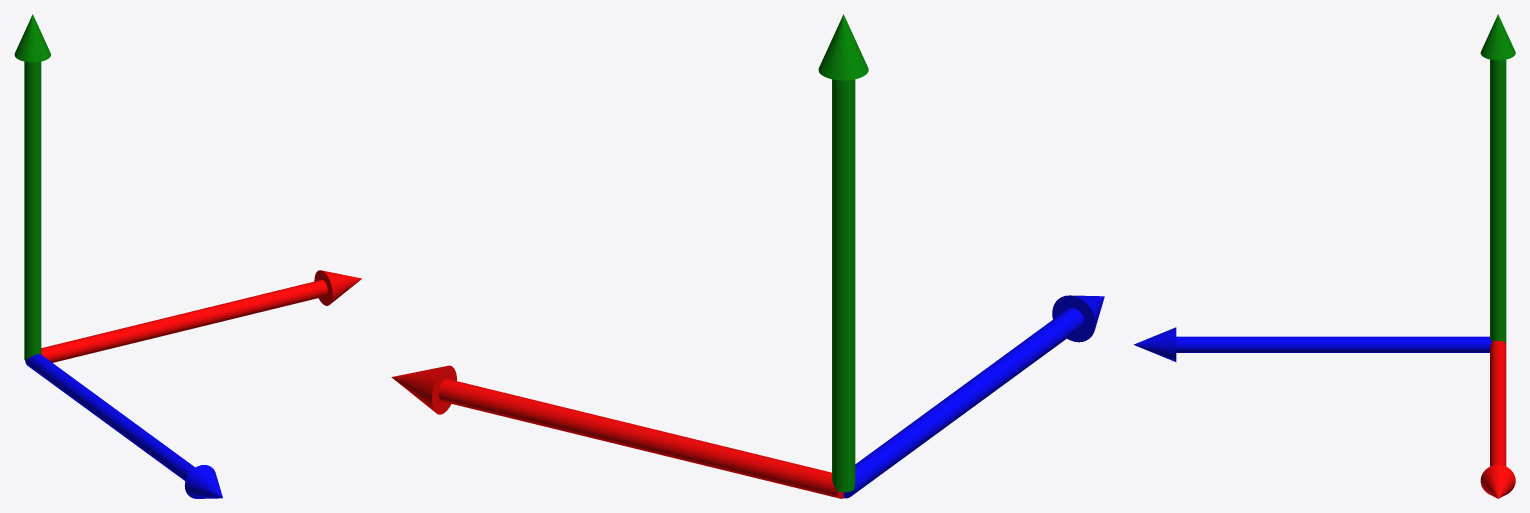
The model's file is axis.glb.
The picture shows the model from 3 angles, left to right: view 1: azimuth 30°, elevation 25°; view 2: azimuth 150°, elevation 25°; view 3: azimuth 270°, elevation 25°; orthographic projection. The views are drawn at different scales.
Visible parts, largest first — view 1: Cylinder.002; view 2: Cylinder.002; view 3: Cylinder.002.
Boxes of the visible parts, left/top/right/bottom form: Cylinder.002: left=14, top=14, right=361, bottom=498; Cylinder.002: left=391, top=14, right=1104, bottom=498; Cylinder.002: left=1133, top=14, right=1515, bottom=498.
Bounding box in the file's own units: 2.38 × 2.38 × 2.38.
